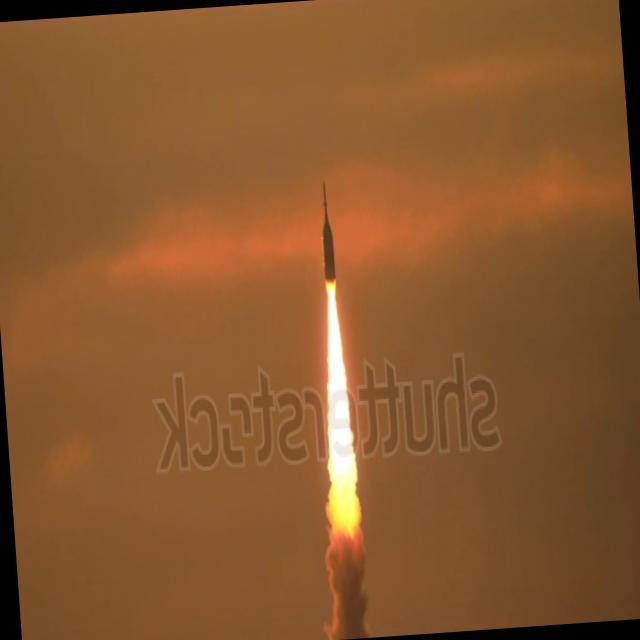rocket: (307, 184, 358, 491)
